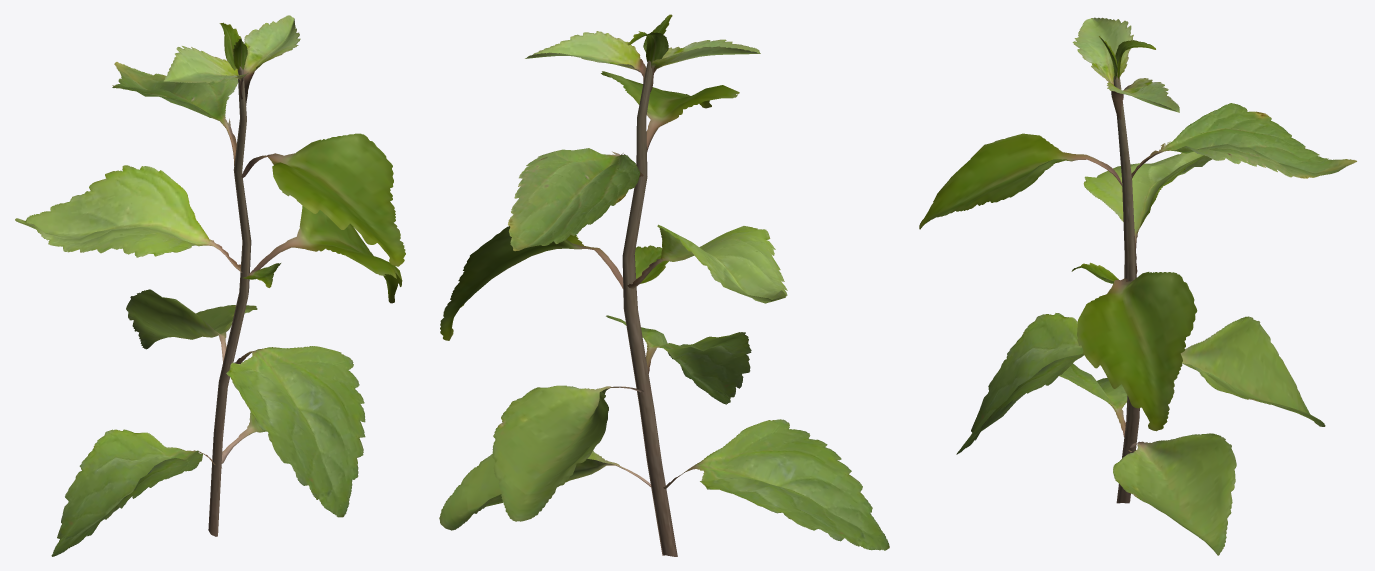
3 renders of one model, left to right at view 1: azimuth 30°, elevation 25°; view 2: azimuth 150°, elevation 25°; view 3: azimuth 270°, elevation 25°, orthographic. The views are drawn at different scales.
Parts seen in each view (by area): view 1: shrub_01__c_lod0; view 2: shrub_01__c_lod0; view 3: shrub_01__c_lod0.
Boxes of the visible parts, box(x1,y1,x2,y2) form: shrub_01__c_lod0: box(15, 15, 405, 556); shrub_01__c_lod0: box(439, 14, 889, 556); shrub_01__c_lod0: box(919, 17, 1356, 555).
Size of the model in its own units: 0.0918 by 0.1156 by 0.0977.
1 material, 1 textured.
